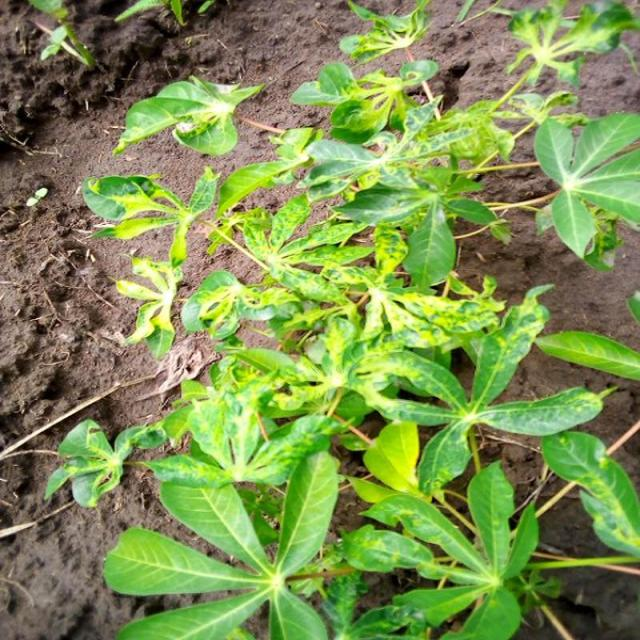cassava leaf: (46, 0, 640, 639), (532, 110, 639, 262)
